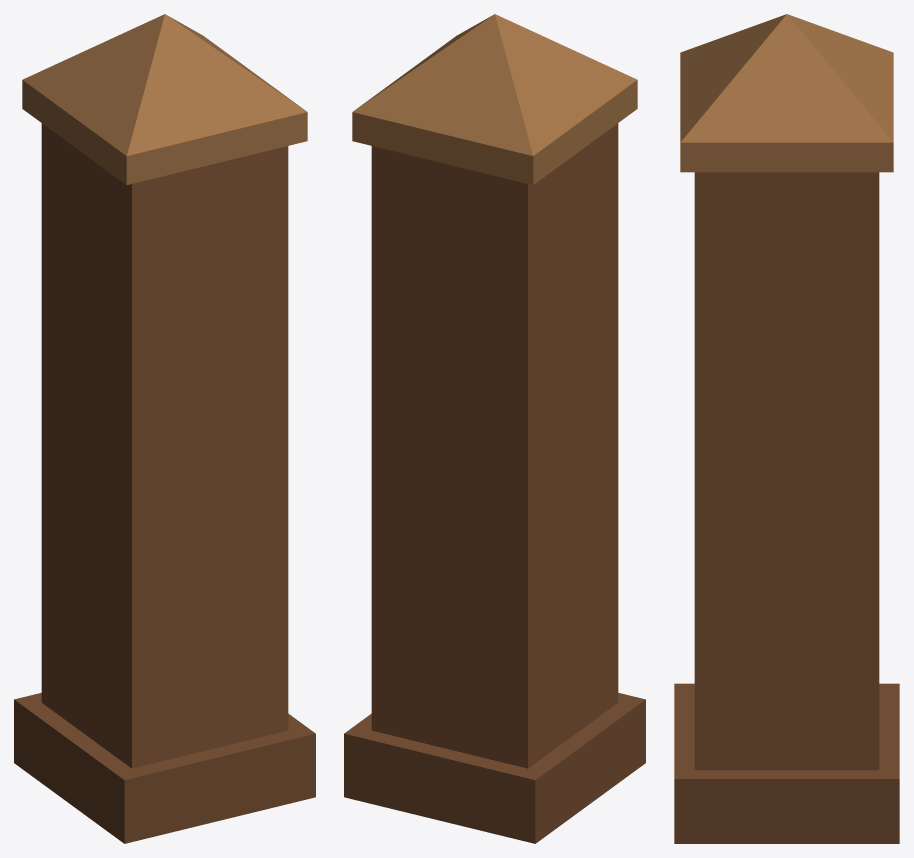
File: fence_corner.fbx
3 renders of one model, left to right at view 1: azimuth 30°, elevation 25°; view 2: azimuth 150°, elevation 25°; view 3: azimuth 270°, elevation 25°, orthographic. The views are drawn at different scales.
Visible parts, largest first — view 1: fence_corner; view 2: fence_corner; view 3: fence_corner.
Part boxes in pixels (x1,y1,x2,y2): fence_corner: (14,14,315,843); fence_corner: (344,14,645,843); fence_corner: (674,14,899,843).
Bounding box in the file's own units: 1.1 × 4.21 × 1.1.
